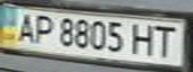0: (87, 18, 109, 52)
5: (106, 19, 130, 54)
8: (72, 17, 93, 51), (54, 15, 75, 47)
A: (9, 10, 39, 44)
H: (127, 21, 160, 57)
P: (30, 12, 57, 45)
T: (151, 22, 184, 58)
